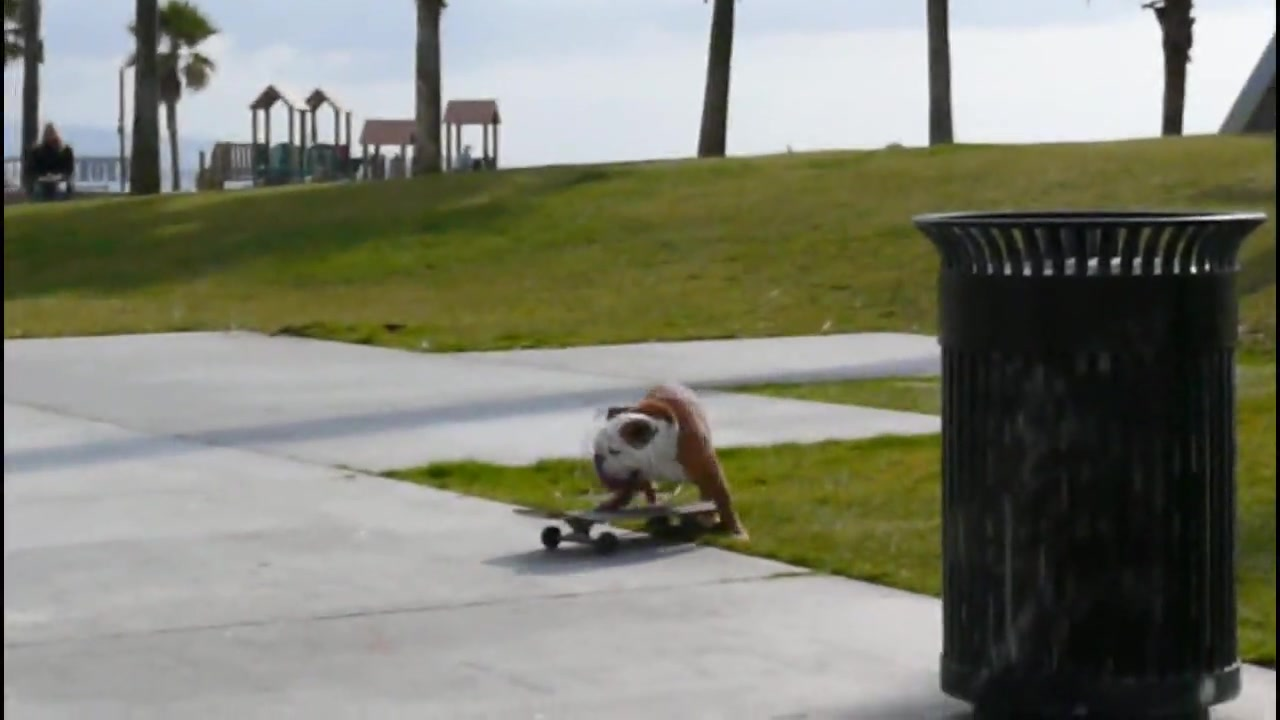dog: (595, 379, 743, 548)
